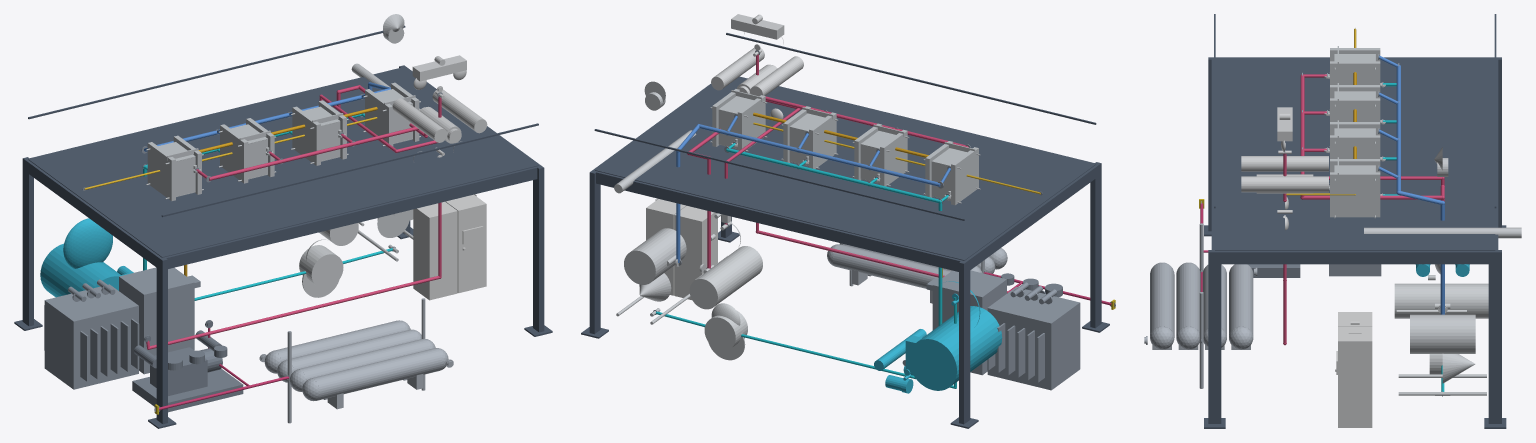
The model's file is plant_100tpd_master_assembly.glb.
The picture shows the model from 3 angles, left to right: view 1: azimuth 30°, elevation 25°; view 2: azimuth 150°, elevation 25°; view 3: azimuth 270°, elevation 25°; orthographic projection. The views are drawn at different scales.
Parts seen in each view (by area): view 1: geometry_0; view 2: geometry_0; view 3: geometry_0.
Boxes of the visible parts, bbox=[...] form: geometry_0: bbox=[14, 14, 552, 428]; geometry_0: bbox=[581, 14, 1115, 428]; geometry_0: bbox=[1144, 14, 1521, 428].
Bounding box in the file's own units: 11.65 × 7.64 × 8.61.
